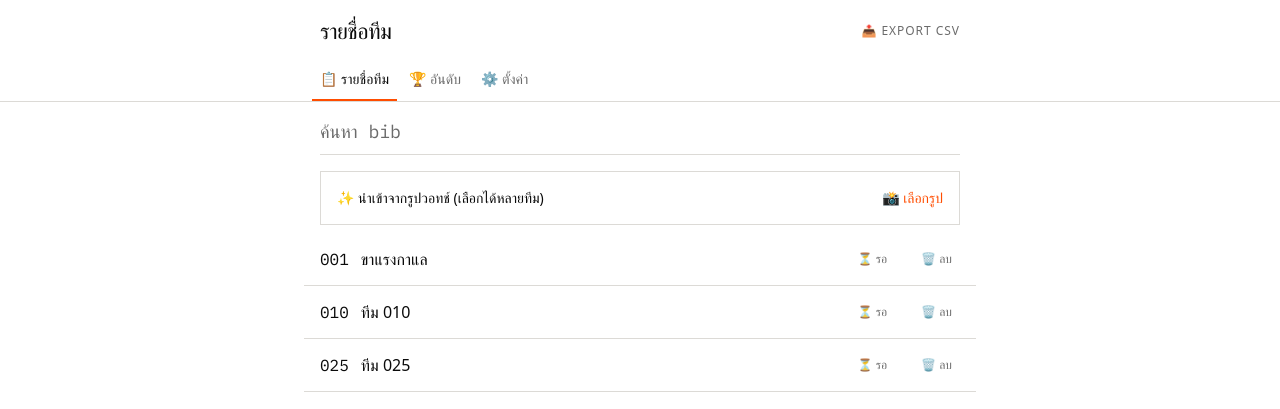
Test case: TeamList › matches bib search by leading digits, ignoring zero-padding
Type "1" into the search field at (640, 136), box [320,118,960,155]
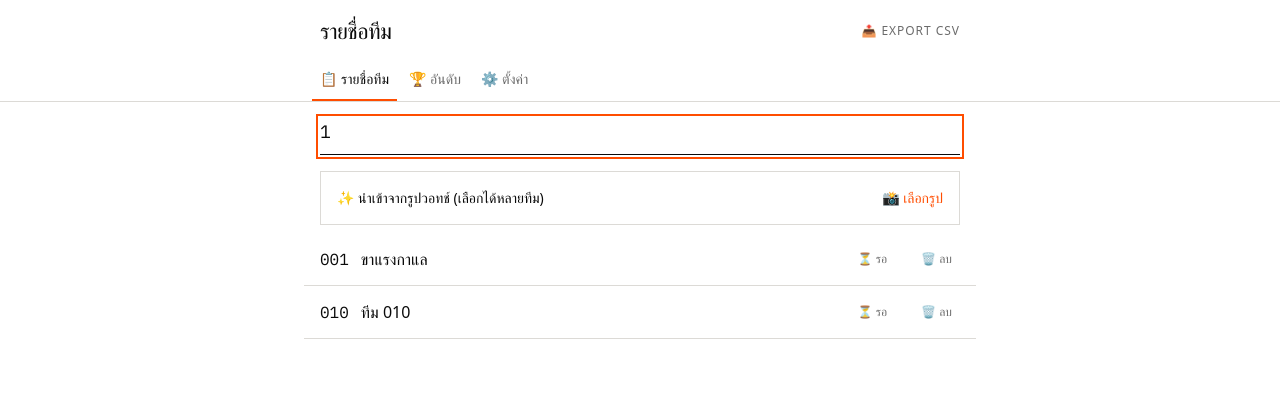
Check: the text "ขาแรงกาแล" is shown, box [361,248,428,270]
Check: the link "ทีม 025" is gone
